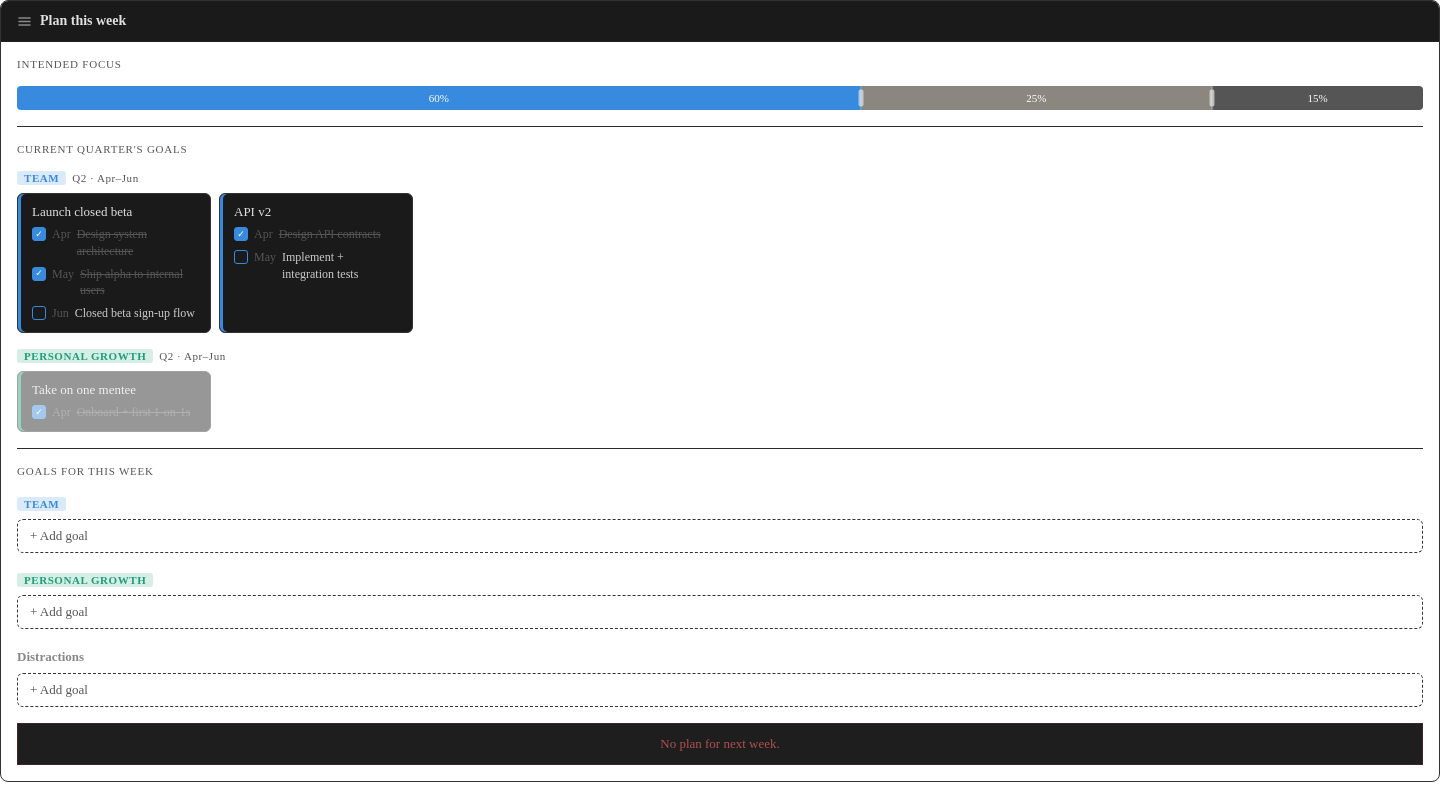
PlanSection › No plan — Cancel dismisses confirmation panel
This screenshot has width=1440, height=810.
Step 1. Click the button "No plan for next week." → (720, 744), box [17,723,1423,765]
(page scrolled)
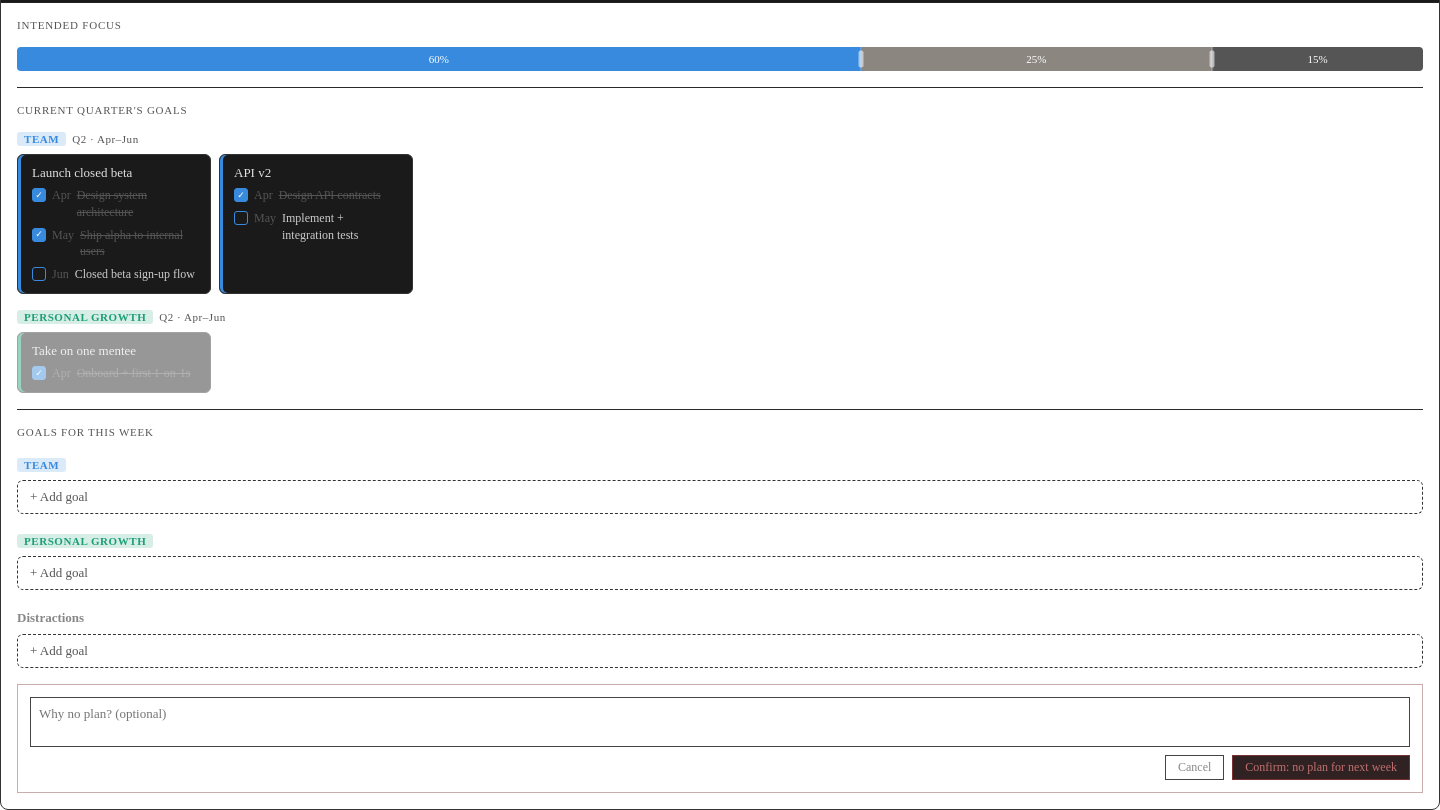
Check: the element with class "no-plan-confirm" is shown, box [17,684,1423,793]
Step 2. Click the button "Cancel" → (1195, 767), box [1165,755,1224,780]
(page scrolled)
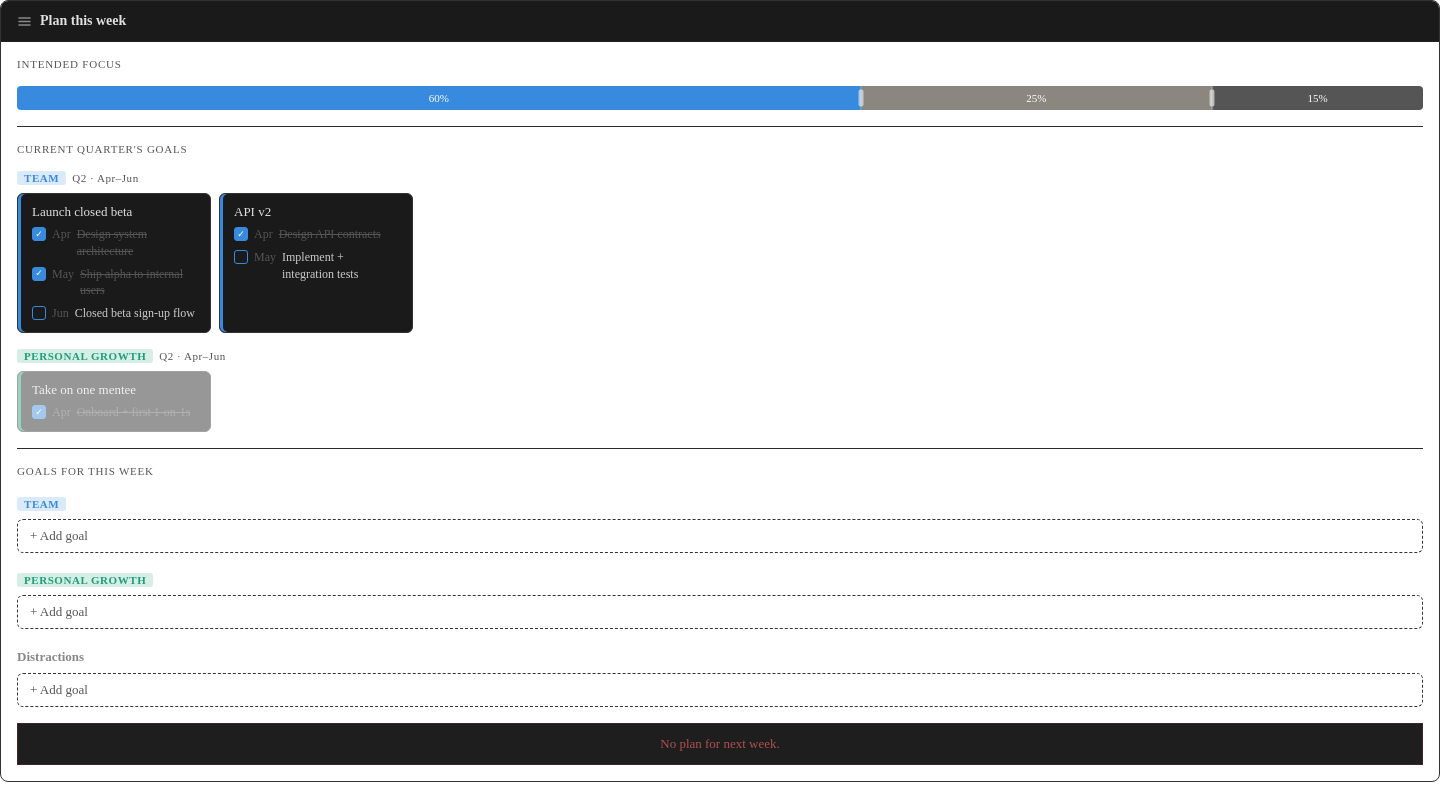
Check: the element with class "no-plan-confirm" is gone
Check: the button "No plan for next week." is shown, box [17,723,1423,765]
